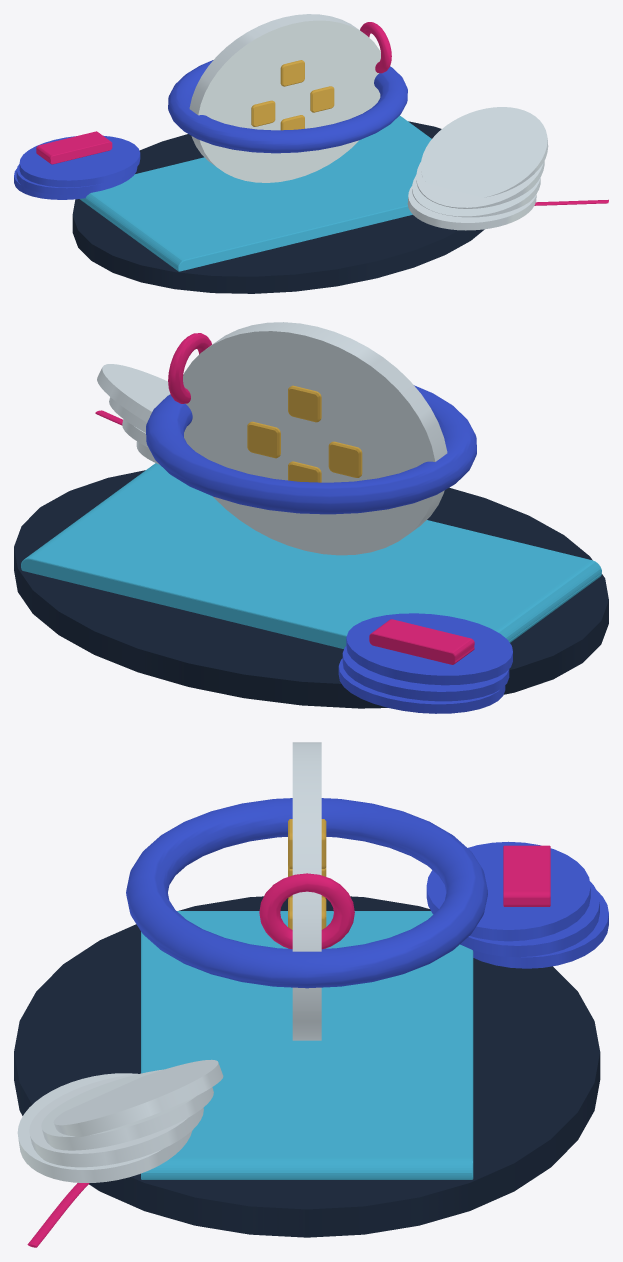
The model's file is 0725_钱币图鉴_秦半两.glb.
3 views of the same model, one above another, from view 1: azimuth 30°, elevation 25°; view 2: azimuth 150°, elevation 25°; view 3: azimuth 270°, elevation 25° (orthographic). The views are drawn at different scales.
Visible parts, largest first — view 1: card_0725; view 2: card_0725; view 3: card_0725.
Part boxes in pixels (<box>): card_0725: <box>14,14,608,293</box>; card_0725: <box>14,322,608,713</box>; card_0725: <box>14,742,608,1247</box>.
Size of the model in its own units: 2.39 by 1 by 1.7.
